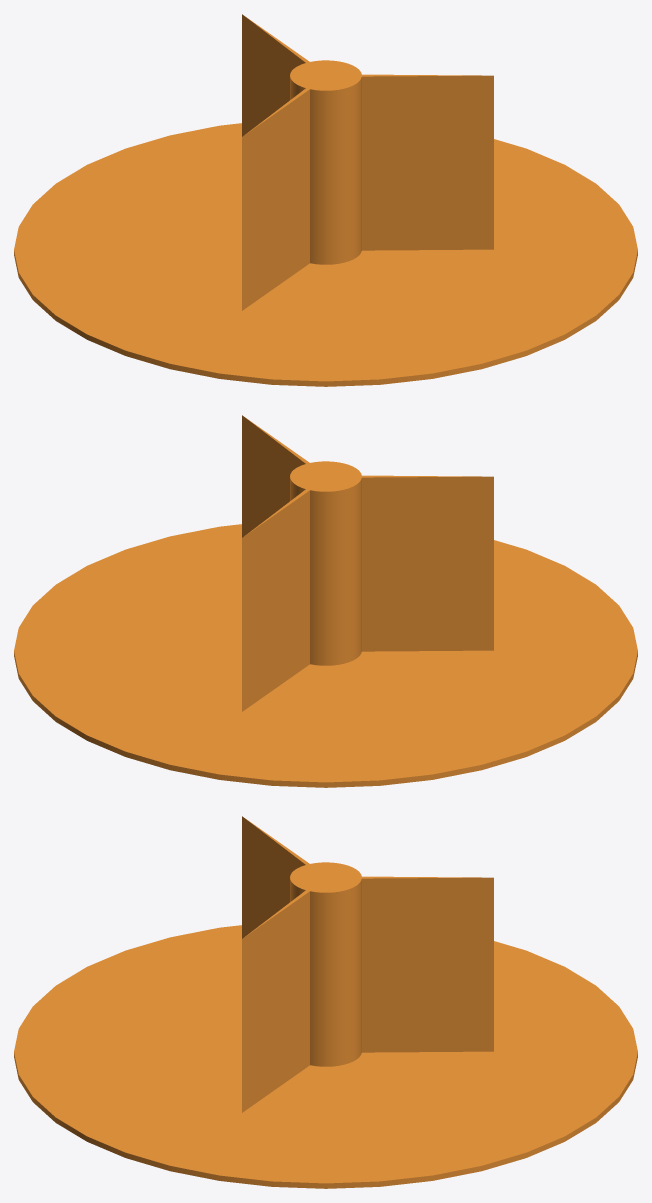
3 views of the same model, one above another, from view 1: azimuth 30°, elevation 25°; view 2: azimuth 150°, elevation 25°; view 3: azimuth 270°, elevation 25° (orthographic).
Parts seen in each view (by area): view 1: SOLID; view 2: SOLID; view 3: SOLID.
Part boxes in pixels (left/top/right/bottom): SOLID: left=14, top=14, right=637, bottom=386; SOLID: left=14, top=415, right=637, bottom=787; SOLID: left=14, top=816, right=637, bottom=1188.
Size of the model in its own units: 0.3302 by 0.1619 by 0.3302.
